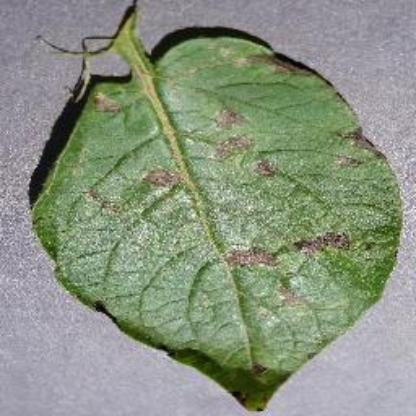Early-Blight: (32, 6, 398, 408)
